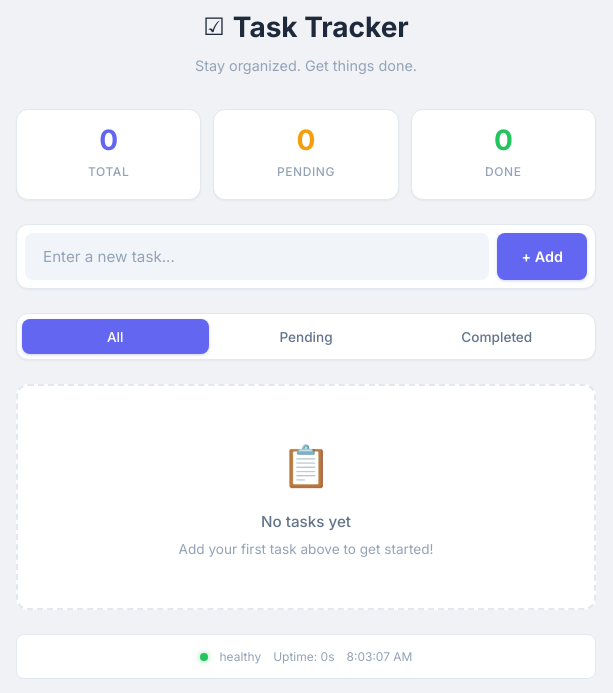
Test: App – Integration › deletes a task when Delete is clicked
Type "Delete me" into the field with placeholder "Enter a new task...". click: x=257, y=257
box: [25,233,490,280]
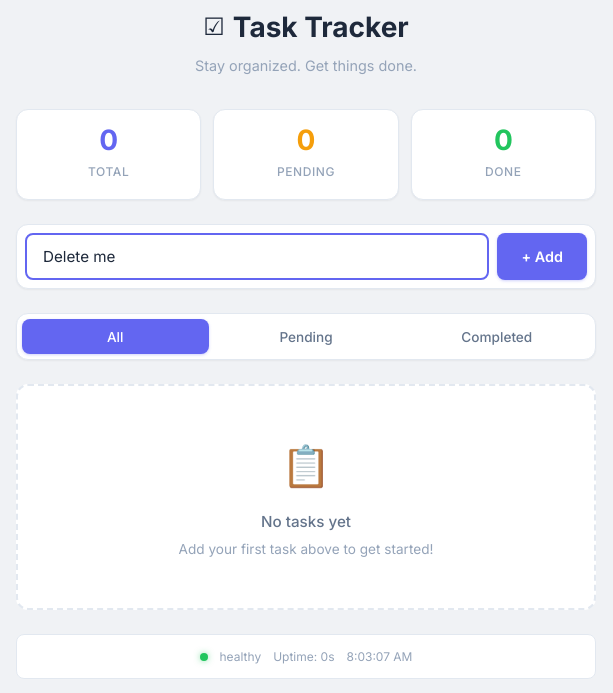
Click the button "+ Add". click: x=542, y=257
box: [498,233,587,280]
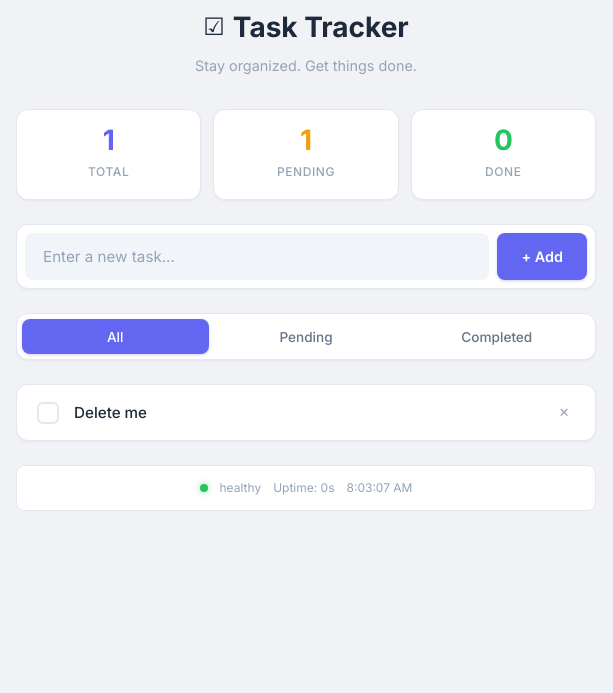
Expected: the text "Delete me" is shown, [74,401,147,425]
Click the button named "delete". click: x=564, y=413
box: [549,399,579,427]
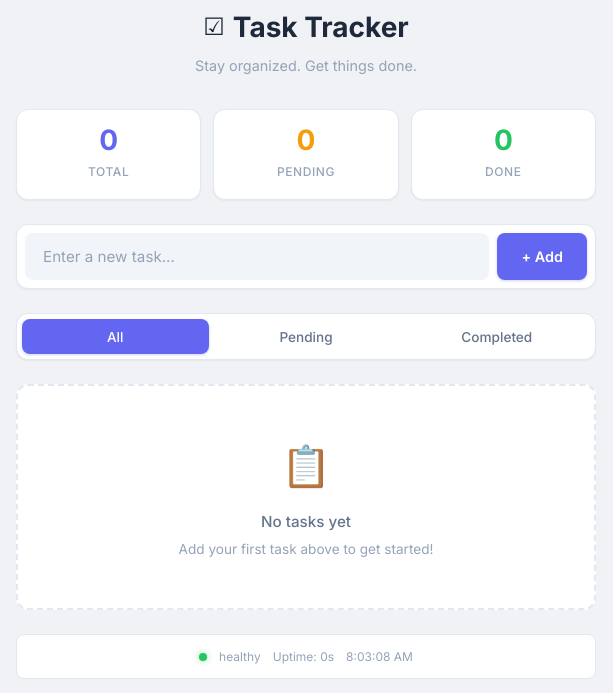
Expected: the text "Delete me" is gone
